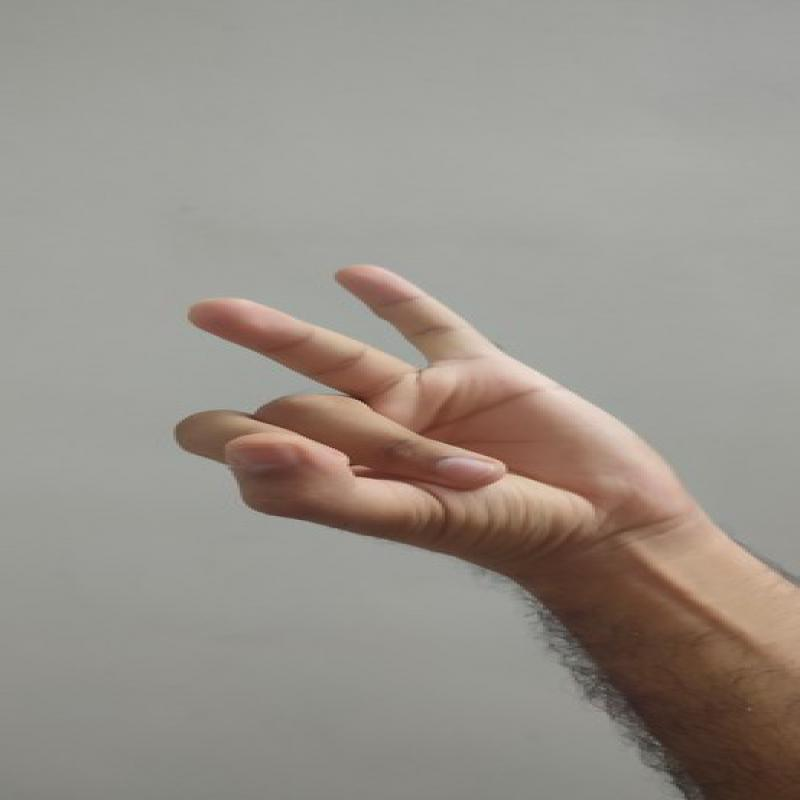Katakam: (155, 251, 709, 582)
